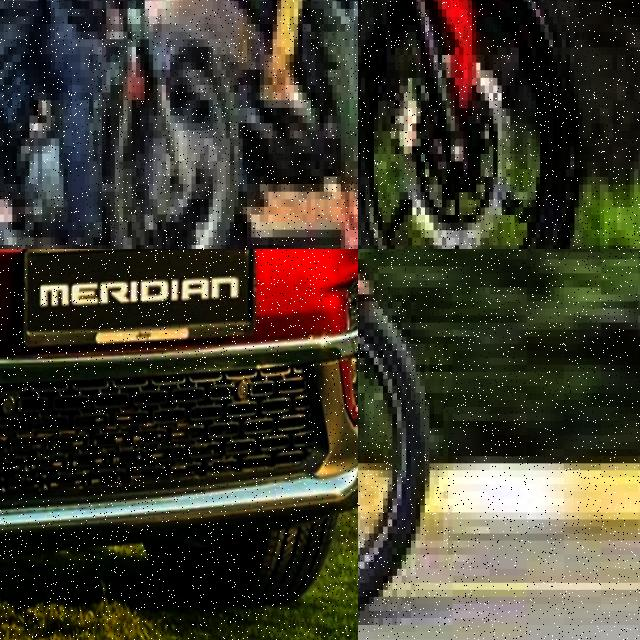bike: (358, 0, 625, 249), (0, 0, 251, 249), (110, 0, 358, 249), (358, 249, 443, 640)
car: (0, 249, 358, 640)
